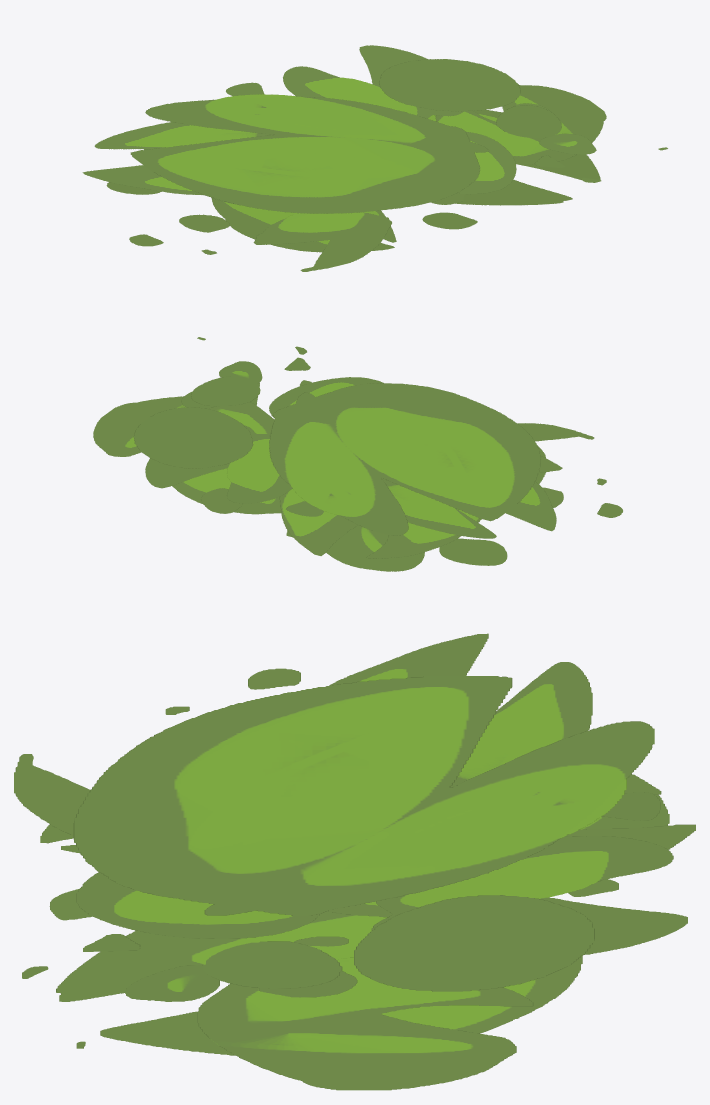
File: LillyPack.fbx
The picture shows the model from 3 angles, top to bottom: view 1: azimuth 30°, elevation 25°; view 2: azimuth 150°, elevation 25°; view 3: azimuth 270°, elevation 25°; orthographic projection. The views are drawn at different scales.
Visible parts, largest first — view 1: Lilly2, Lilly1, Lilly4, Lilly3; view 2: Lilly2, Lilly1, Lilly4, Lilly3; view 3: Lilly2, Lilly1, Lilly4, Lilly3.
Boxes of the visible parts, x1,y1,x2,y2 form: Lilly2: [130, 59, 565, 213]; Lilly1: [82, 45, 667, 195]; Lilly4: [129, 85, 606, 271]; Lilly3: [106, 110, 600, 252]; Lilly2: [133, 357, 540, 535]; Lilly1: [145, 337, 556, 538]; Lilly4: [93, 396, 622, 558]; Lilly3: [172, 380, 545, 571]; Lilly2: [73, 676, 654, 991]; Lilly1: [22, 633, 687, 1048]; Lilly4: [14, 668, 695, 1090]; Lilly3: [40, 794, 669, 1055].
Bounding box in the file's own units: 282 × 20.13 × 193.
Materials: 4 (4 with a texture image).
